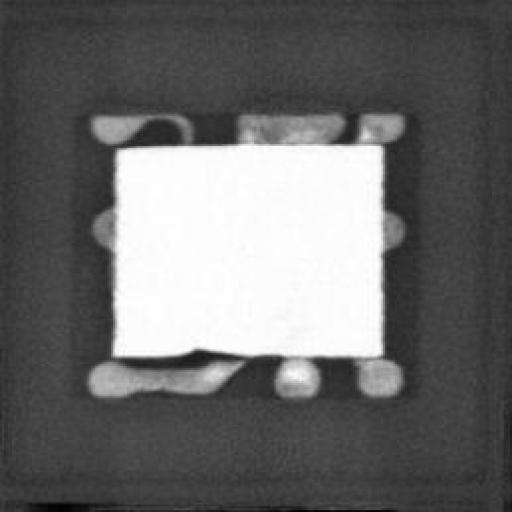DIE_BROKEN: (171, 344, 238, 358)
